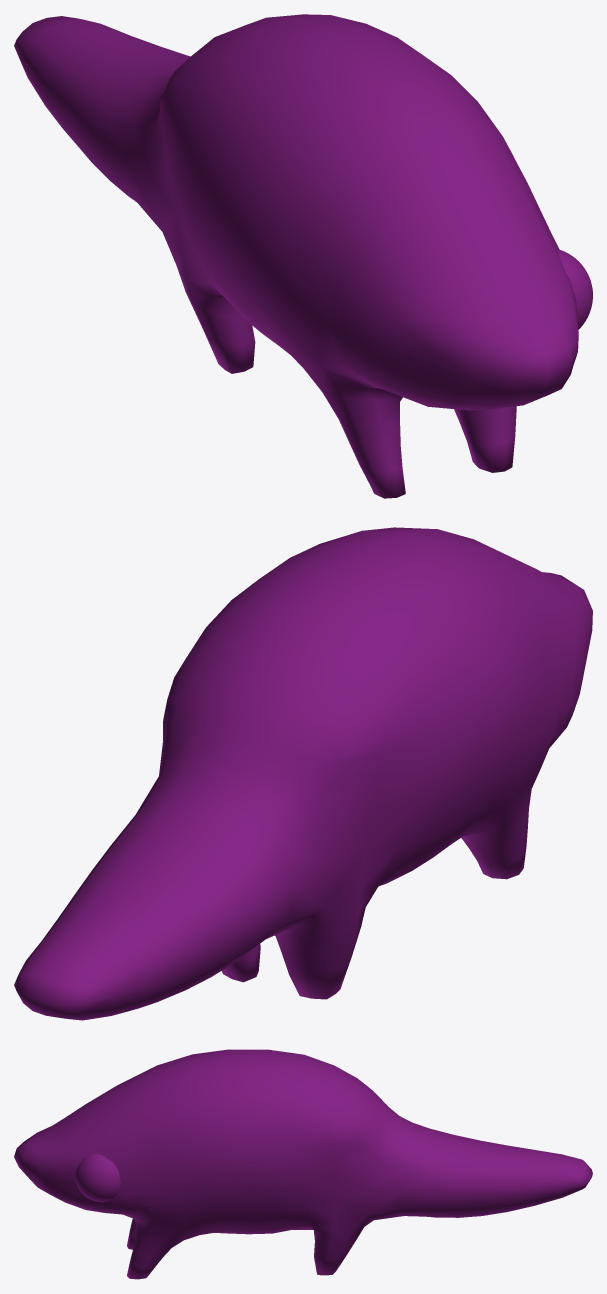
Rendered from Pangolin.FBX.
The picture shows the model from 3 angles, top to bottom: view 1: azimuth 30°, elevation 25°; view 2: azimuth 150°, elevation 25°; view 3: azimuth 270°, elevation 25°; orthographic projection. The views are drawn at different scales.
Parts seen in each view (by area): view 1: body; view 2: body; view 3: body.
Part boxes in pixels (x1,y1,x2,y2): body: [14, 14, 592, 498]; body: [14, 527, 592, 1020]; body: [14, 1049, 592, 1279].
Size of the model in its own units: 106 by 140 by 361.
